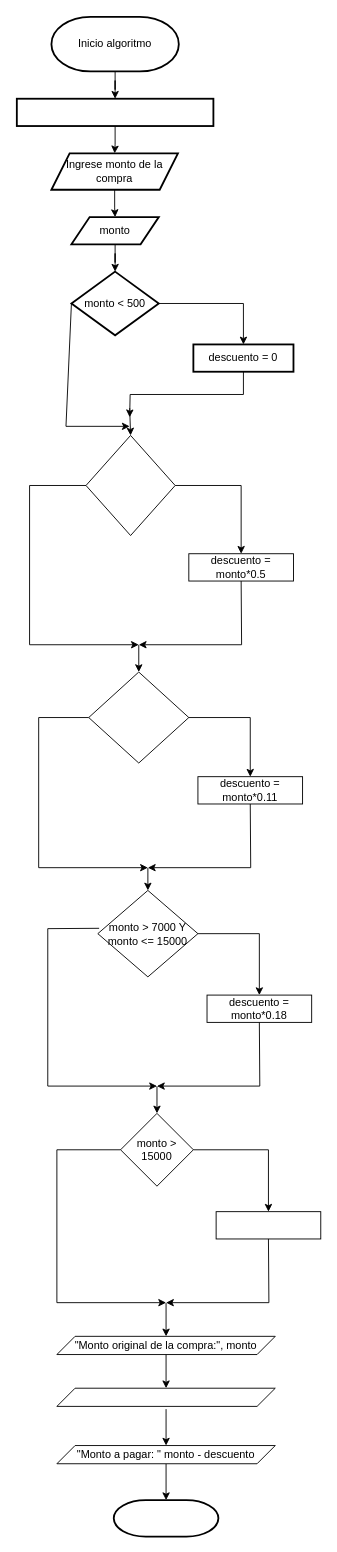
Some shapes in this 337 by 1552 pixel diagram are drawn without their labels. The shapes that lost their labels are listed below. From the top down, each one's box as (x1, y1, x2, y2) in pixels, then its label:
(15, 97, 214, 126): Definir monto, descuento Como real
(85, 435, 175, 536): monto > 500 y monto < 1000
(88, 671, 189, 763): monto > 1000 Y monto <= 7000
(215, 1211, 321, 1239): descuento = monto*0.25
(56, 1387, 275, 1406): "Descuento aplicado:", descuento
(112, 1499, 219, 1537): Fin algoritmo
